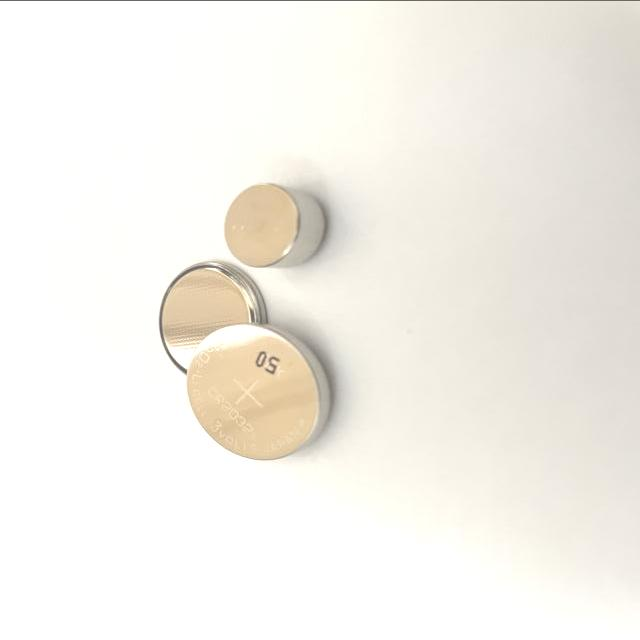COIN: (183, 322, 334, 461), (152, 258, 270, 374), (221, 180, 328, 270)
